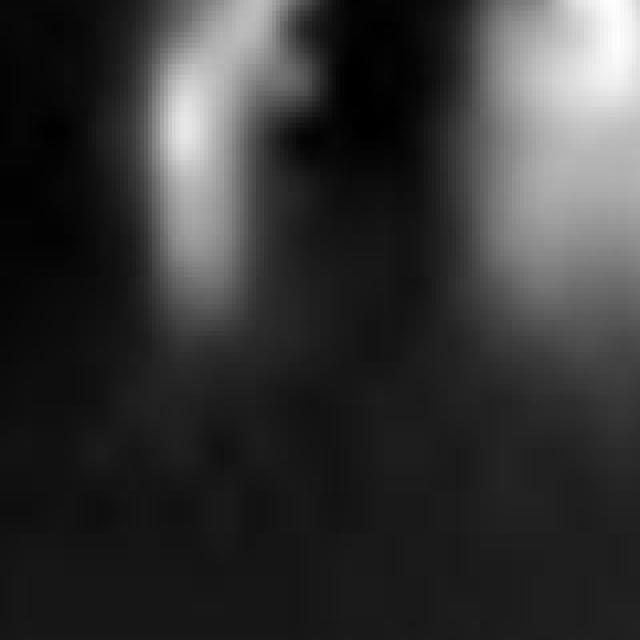person: (129, 1, 321, 358), (485, 1, 640, 390)
